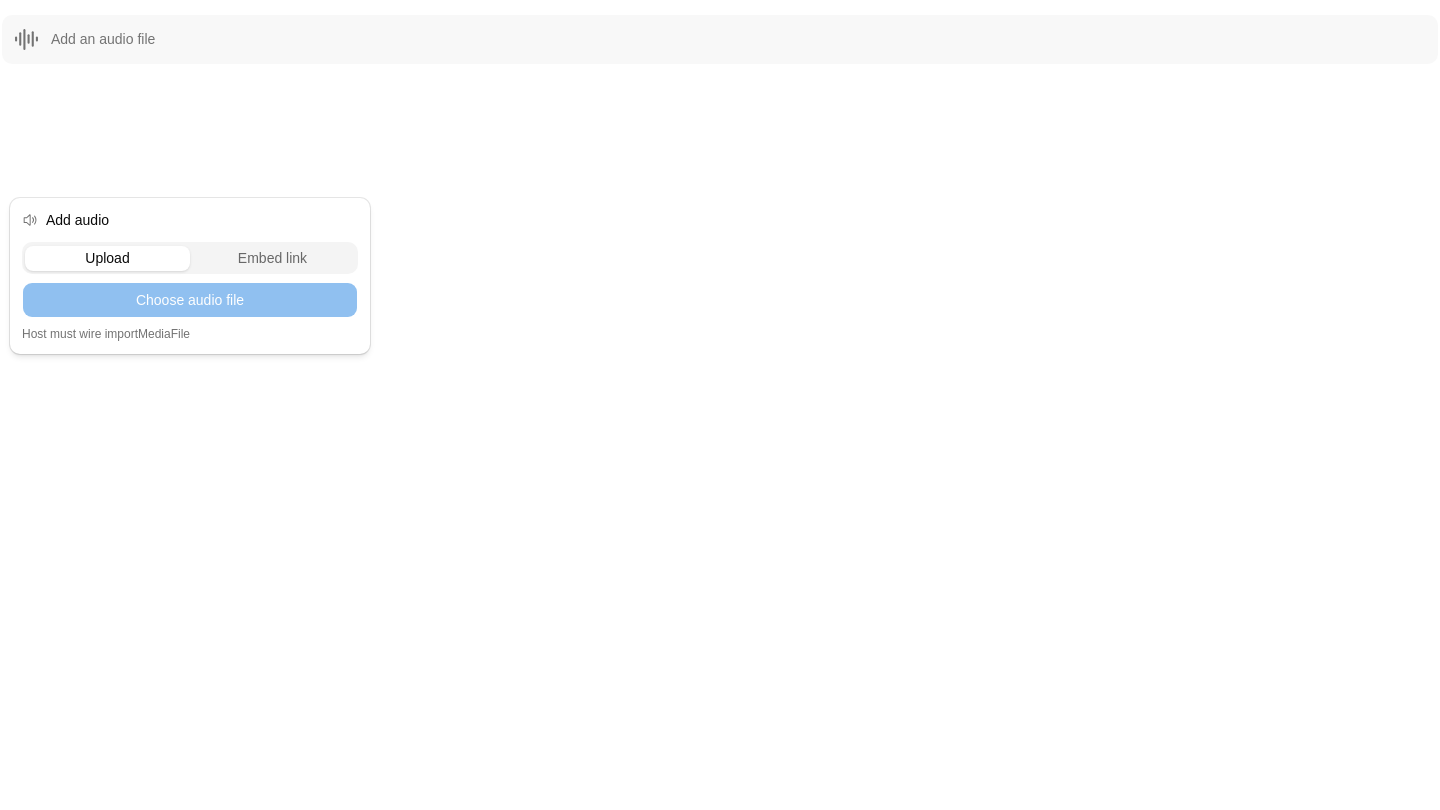
Scenario: MediaSourcePopover › writes audio direct asset URLs without a host URL hook
Check: the tab "Upload" is shown, box [25,246,190,270]
Step 1. Press the mouse on the tab "Embed link" → (272, 258), box [190,246,355,270]
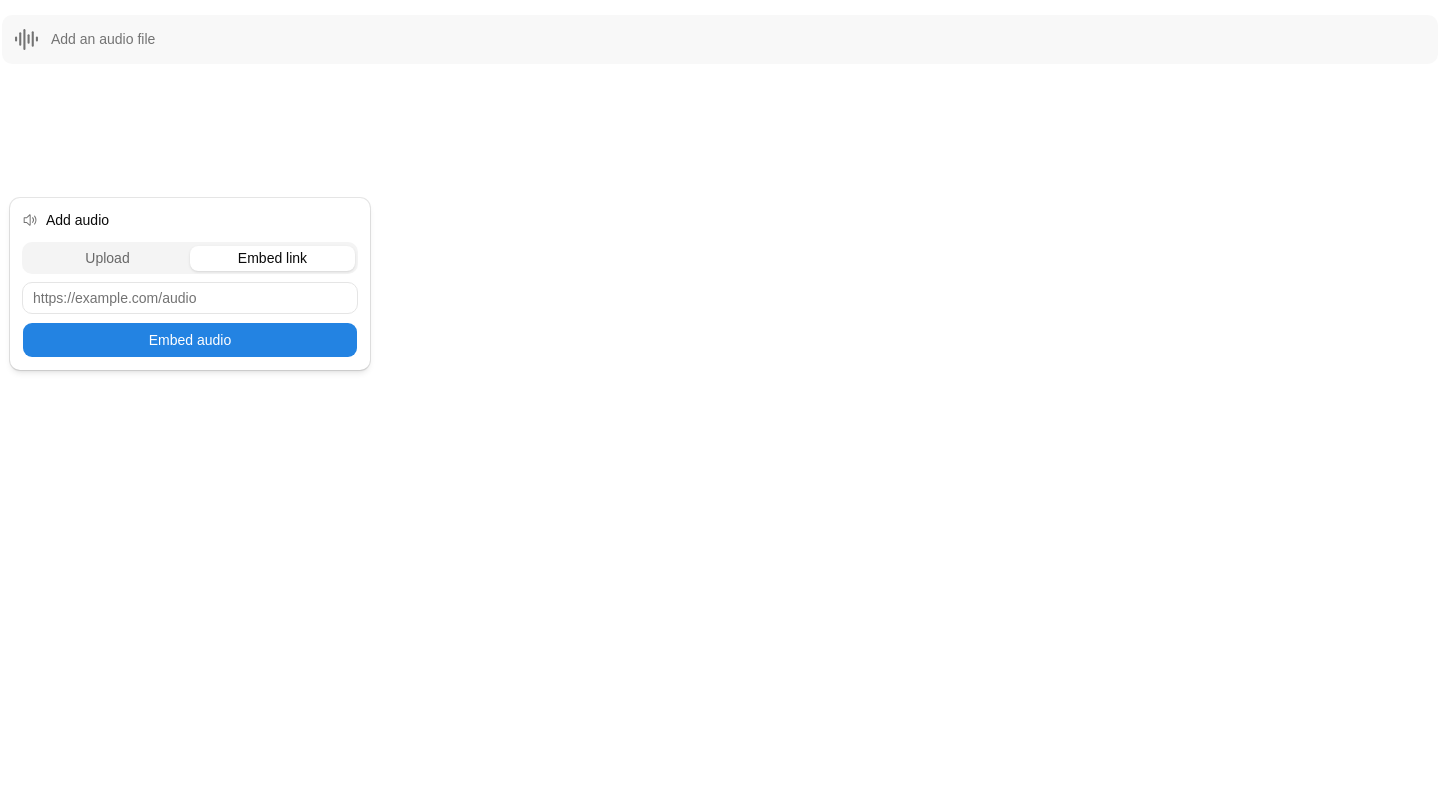
Step 2. Type "/track.mp3" into the field named "Audio URL" → (190, 298), box [22,282,358,314]
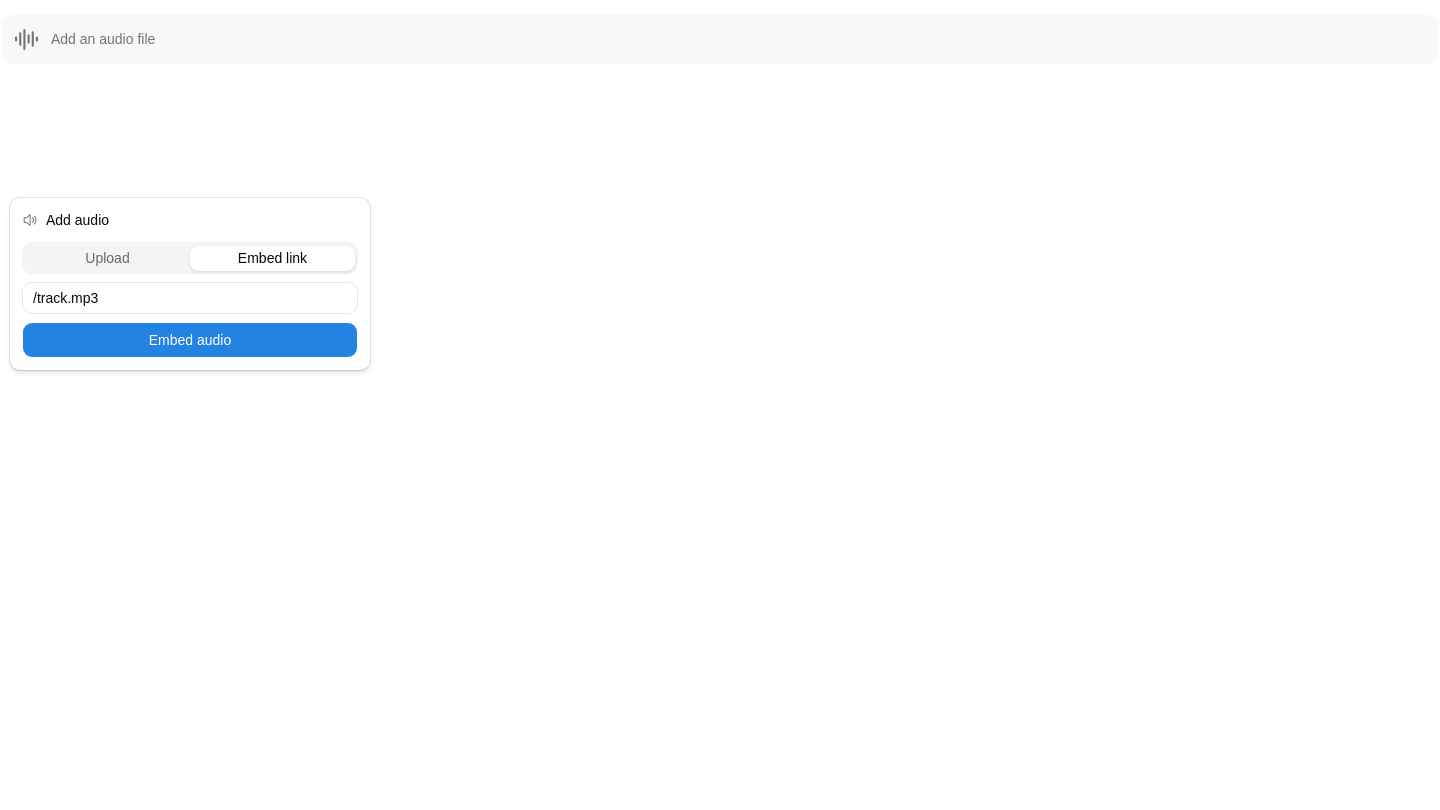
Step 3. Click the button "Embed audio" → click(190, 340), box [22,322,358,358]
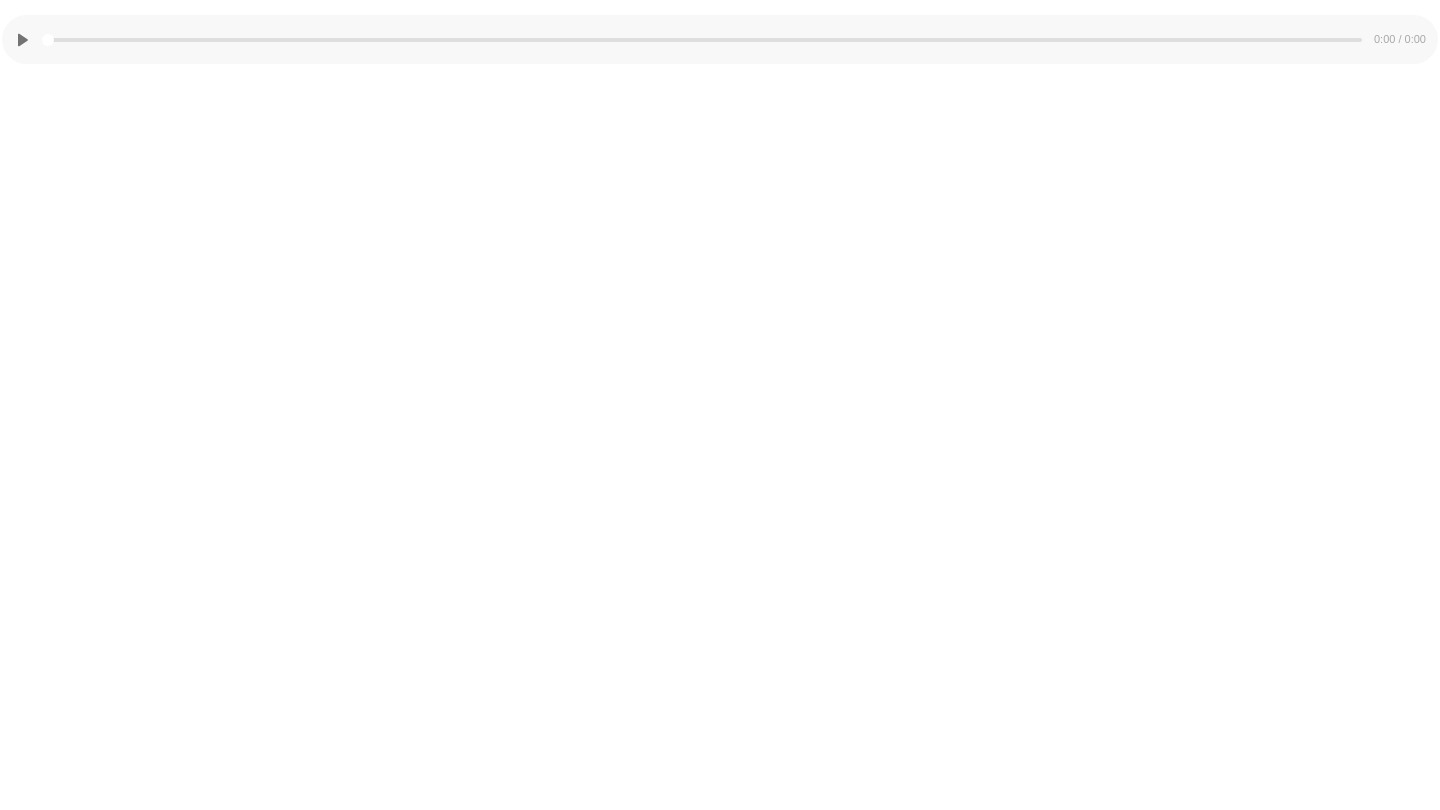
Check: the tab "Upload" is gone
